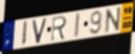9: (89, 10, 104, 35)
I: (20, 20, 28, 47), (74, 12, 81, 39)
N: (104, 6, 122, 34)
R: (50, 15, 68, 43)
V: (32, 17, 48, 45)
